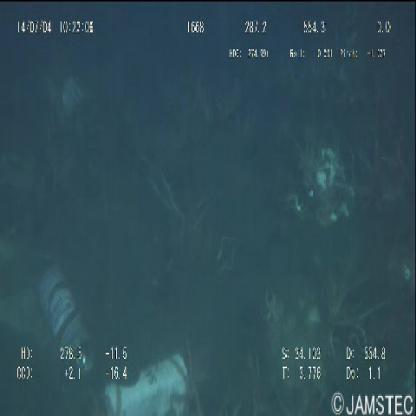Rác: (103, 352, 188, 415)
